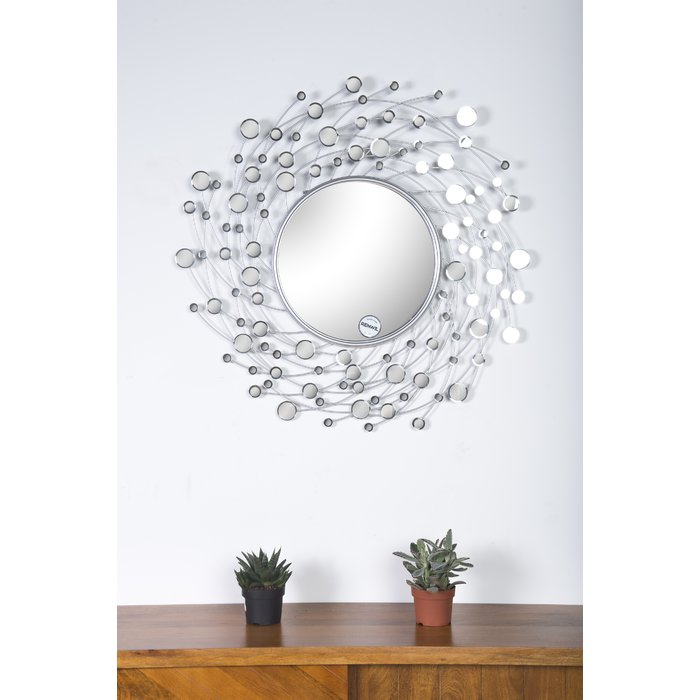Nonrec_Glass: (147, 47, 553, 422)
